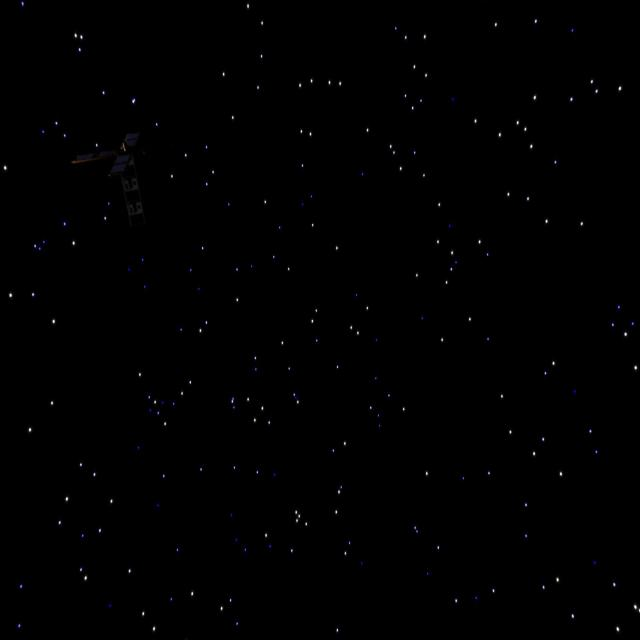medium_debris: (69, 125, 175, 231)
